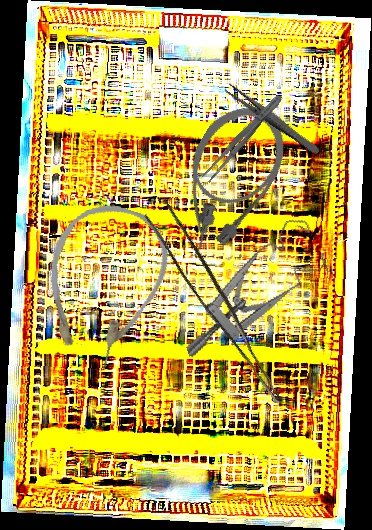Cannula: (24, 192, 182, 377), (147, 91, 302, 272)
Dressing Forceps: (200, 91, 286, 185), (223, 81, 323, 157)
Speculum: (157, 213, 342, 359)
Tissue Forceps: (137, 199, 305, 404)
